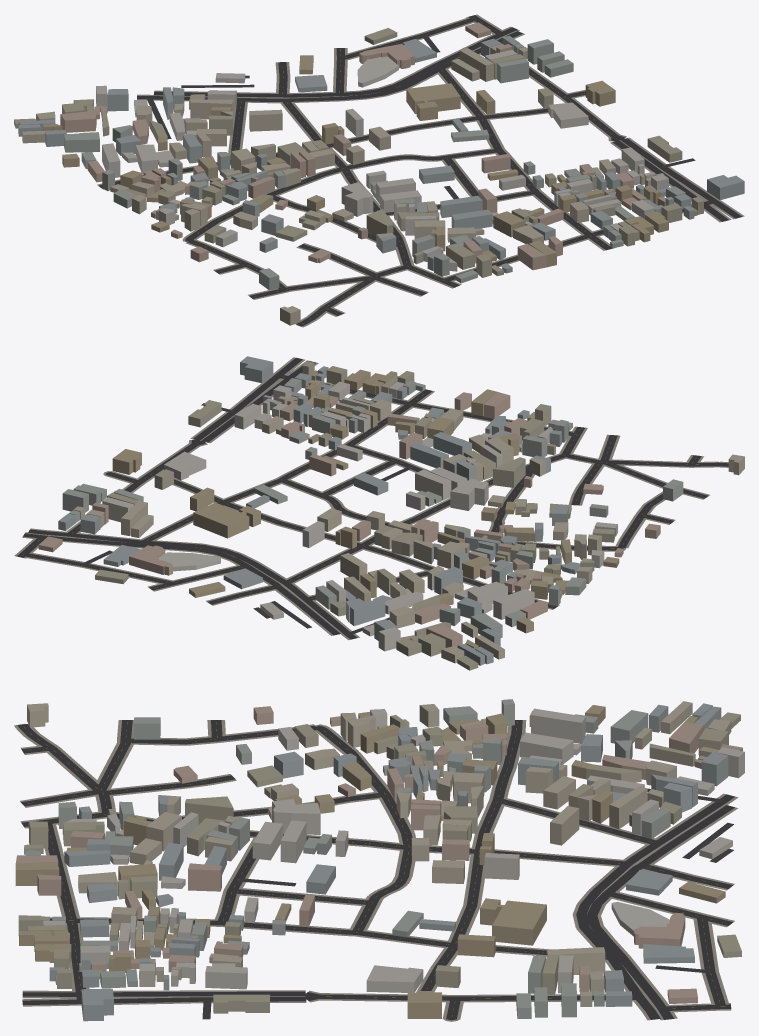
The picture shows the model from 3 angles, top to bottom: view 1: azimuth 30°, elevation 25°; view 2: azimuth 150°, elevation 25°; view 3: azimuth 270°, elevation 25°; orthographic projection. The views are drawn at different scales.
Parts seen in each view (by area): view 1: tile_0_-1; view 2: tile_0_-1; view 3: tile_0_-1.
Boxes of the visible parts, box(x1,y1,x2,y2) form: tile_0_-1: box(14, 14, 744, 327); tile_0_-1: box(14, 356, 744, 670); tile_0_-1: box(14, 699, 744, 1021).
Size of the model in its own units: 414 by 13.2 by 413.
